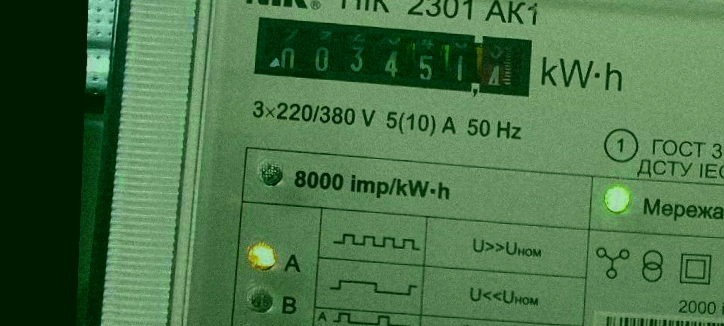0: (276, 42, 297, 70), (311, 43, 331, 72)
1: (451, 51, 468, 82)
3: (346, 41, 366, 73)
4: (380, 47, 401, 80), (482, 61, 503, 90)
5: (416, 50, 434, 82)
screen: (246, 11, 538, 104)
